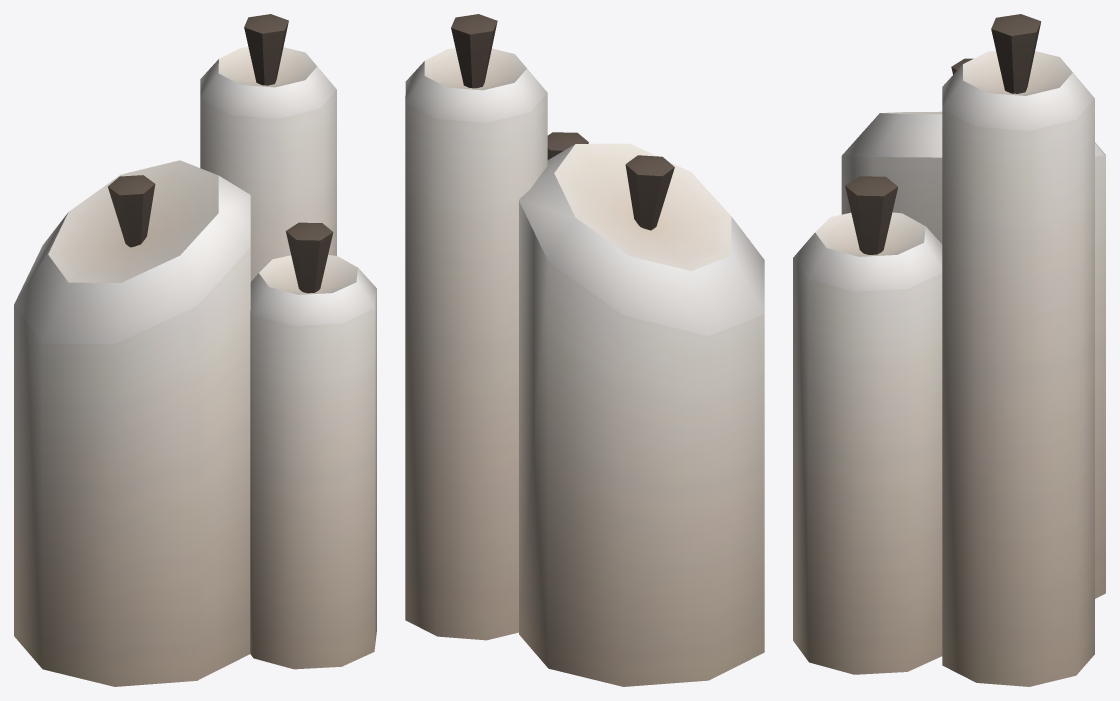
The model's file is candle_triple.glb.
3 views of the same model, side by side, from view 1: azimuth 30°, elevation 25°; view 2: azimuth 150°, elevation 25°; view 3: azimuth 270°, elevation 25° (orthographic). The views are drawn at different scales.
Visible parts, largest first — view 1: candle_triple; view 2: candle_triple; view 3: candle_triple.
Part boxes in pixels (left/top/right/bottom): candle_triple: left=14, top=14, right=376, bottom=686; candle_triple: left=405, top=14, right=764, bottom=686; candle_triple: left=793, top=14, right=1105, bottom=686.
Size of the model in its own units: 0.5011 by 0.873 by 0.39.
1 material, 1 textured.
